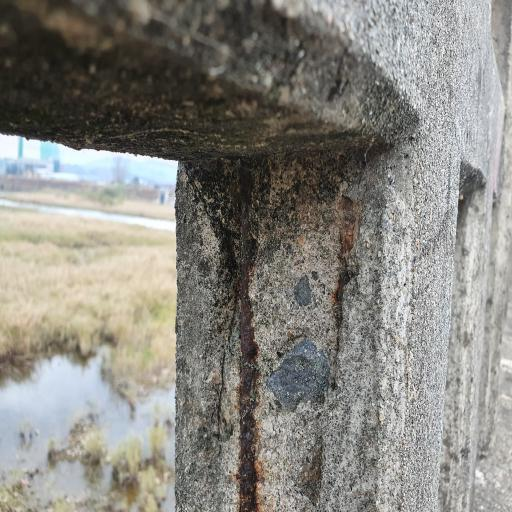exposed_rebar: (238, 164, 260, 509)
